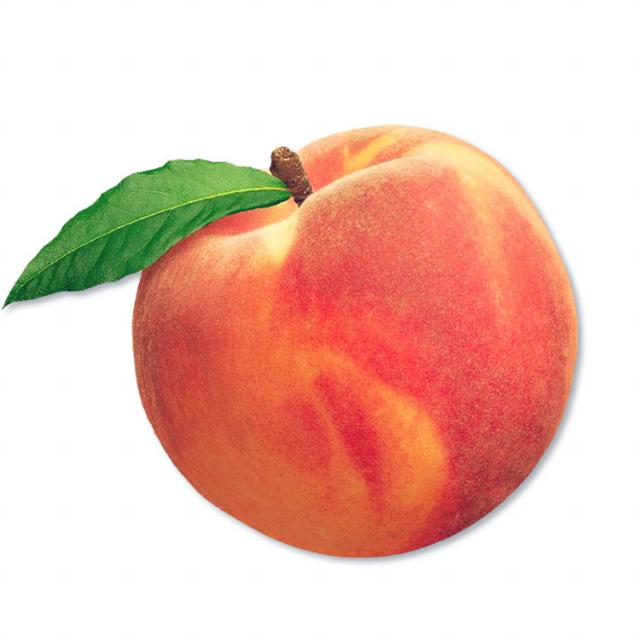peach: (130, 119, 584, 560)
